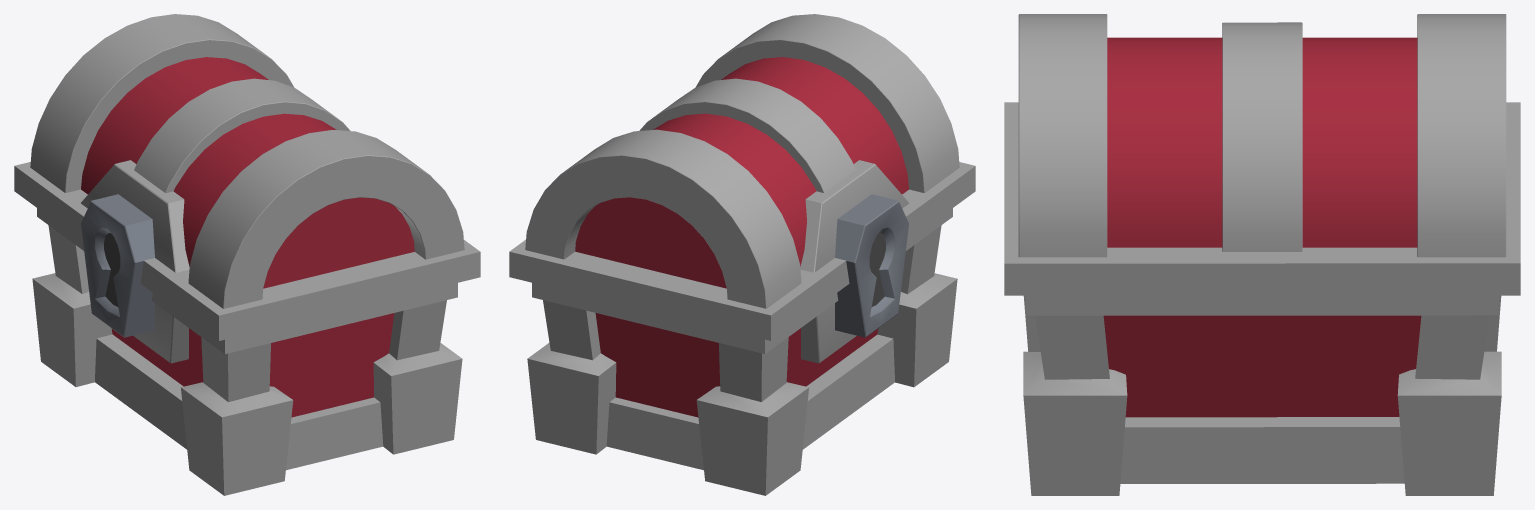
Rendered from RedChest.fbx.
3 views of the same model, side by side, from view 1: azimuth 30°, elevation 25°; view 2: azimuth 150°, elevation 25°; view 3: azimuth 270°, elevation 25° (orthographic). The views are drawn at different scales.
Parts seen in each view (by area): view 1: SM_MidValuePickup; view 2: SM_MidValuePickup; view 3: SM_MidValuePickup.
Part boxes in pixels (box(x1,y1,x2,y2)): SM_MidValuePickup: box(14, 14, 480, 495); SM_MidValuePickup: box(509, 14, 975, 495); SM_MidValuePickup: box(1004, 14, 1520, 495).
Size of the model in its own units: 94.26 by 104 by 123.
